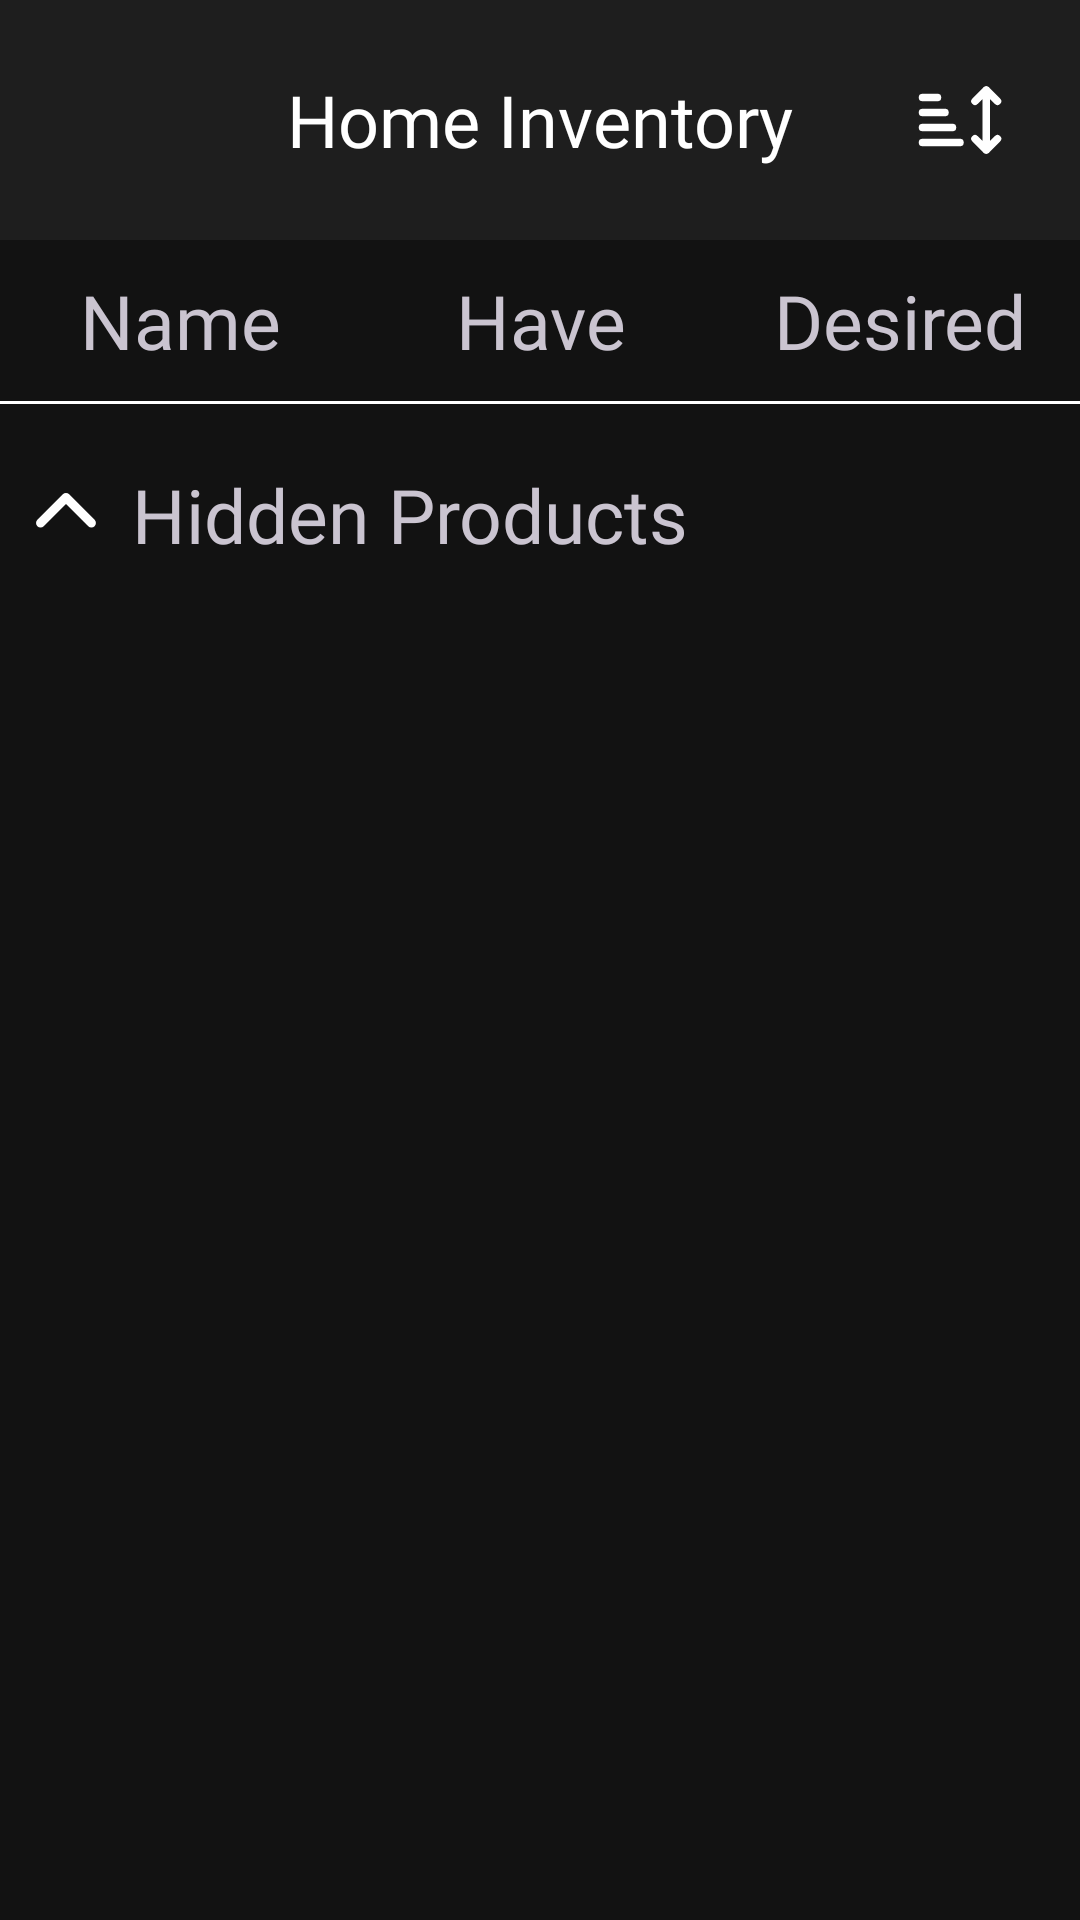

Point at icon controls on the screen. Image size 1080px×1920px, points as (x,y).
Arrow Hidden Product: (66,510)
Sort Home Product Inventory: (960,120)
